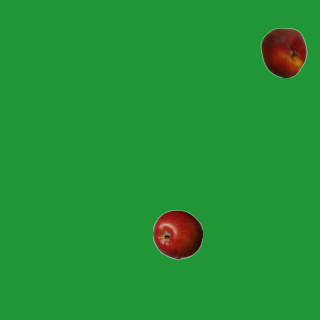Apple Braeburn: (152, 209, 202, 259)
Nectarine Flat: (258, 27, 308, 77)
